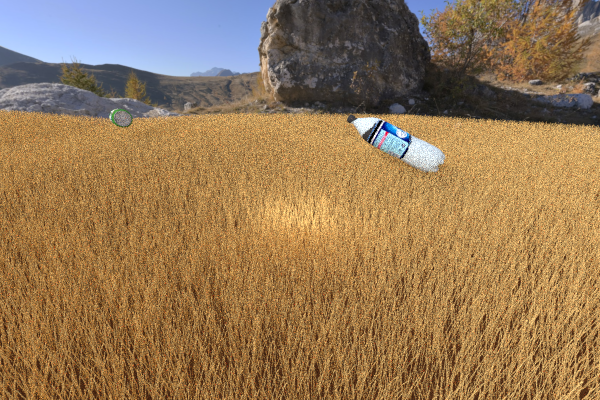Plastic Bottle: (346, 114, 445, 173), (95, 115, 179, 162), (109, 108, 132, 127)
